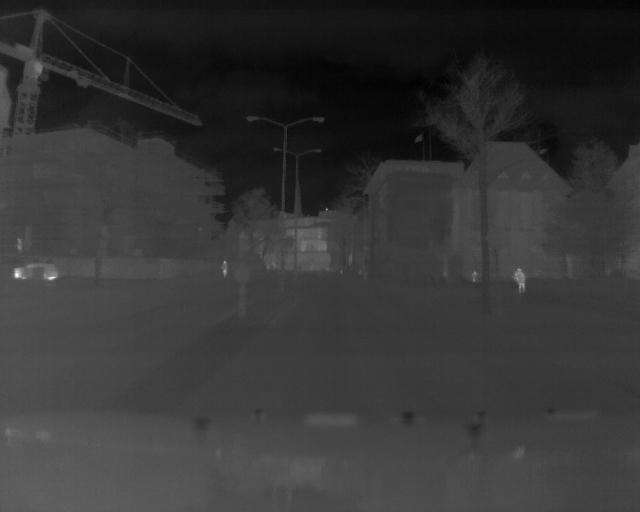car: (12, 258, 59, 286)
person: (513, 265, 528, 295)
